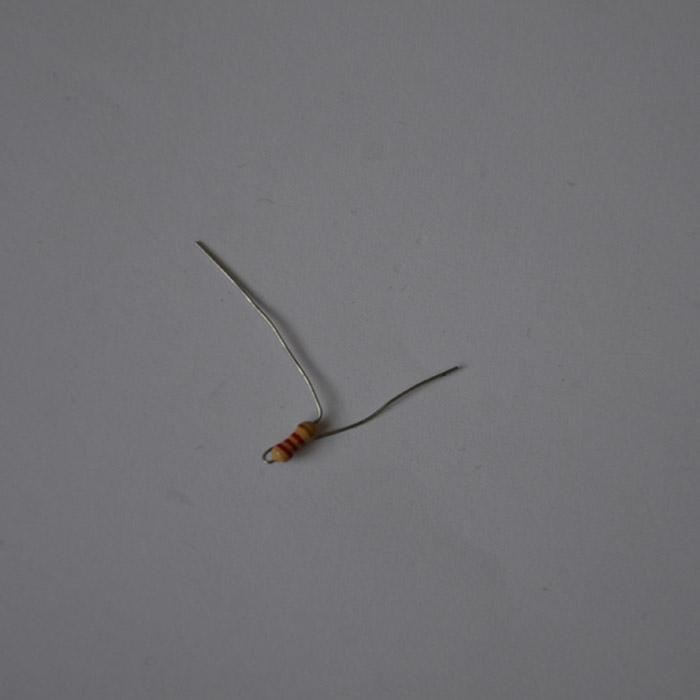resistor: (267, 419, 319, 462)
